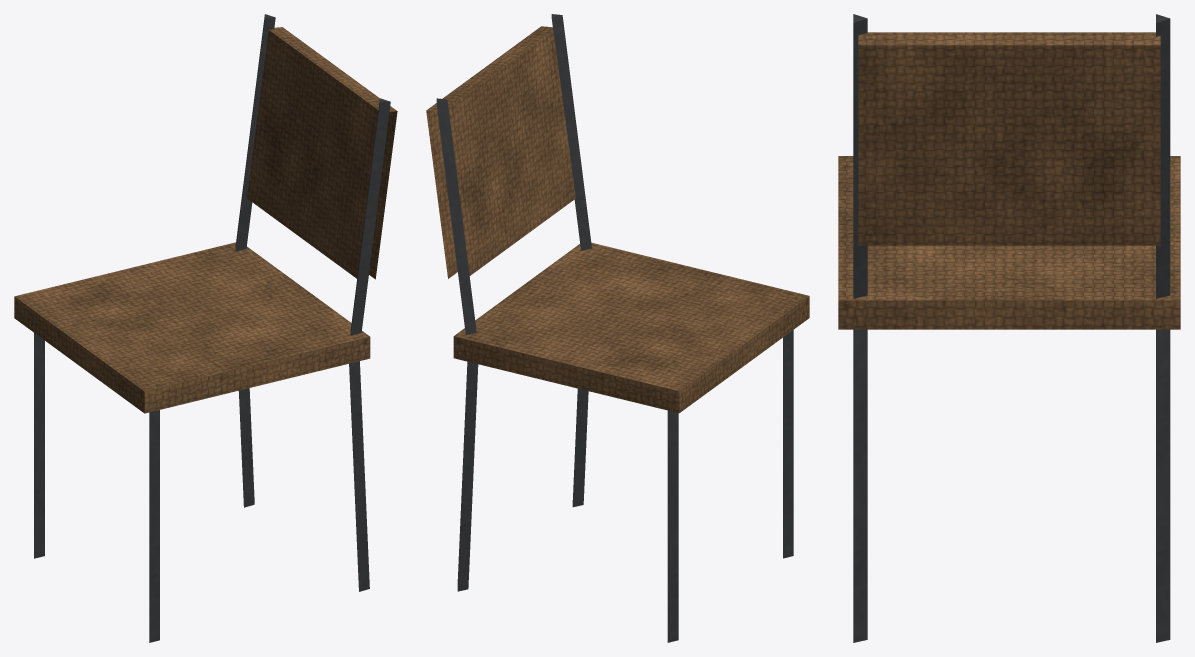
Rendered from SM_Morin_Sedia_LOD2.fbx.
3 renders of one model, left to right at view 1: azimuth 30°, elevation 25°; view 2: azimuth 150°, elevation 25°; view 3: azimuth 270°, elevation 25°, orthographic. The views are drawn at different scales.
Parts seen in each view (by area): view 1: SM_Morin_Sedia_LOD2; view 2: SM_Morin_Sedia_LOD2; view 3: SM_Morin_Sedia_LOD2.
Boxes of the visible parts, x1=… form: SM_Morin_Sedia_LOD2: x1=14, y1=14, x2=397, y2=642; SM_Morin_Sedia_LOD2: x1=426, y1=14, x2=809, y2=642; SM_Morin_Sedia_LOD2: x1=838, y1=14, x2=1180, y2=642.
Bounding box in the file's own units: 49.66 × 43 × 88.19.
1 material, 1 textured.
